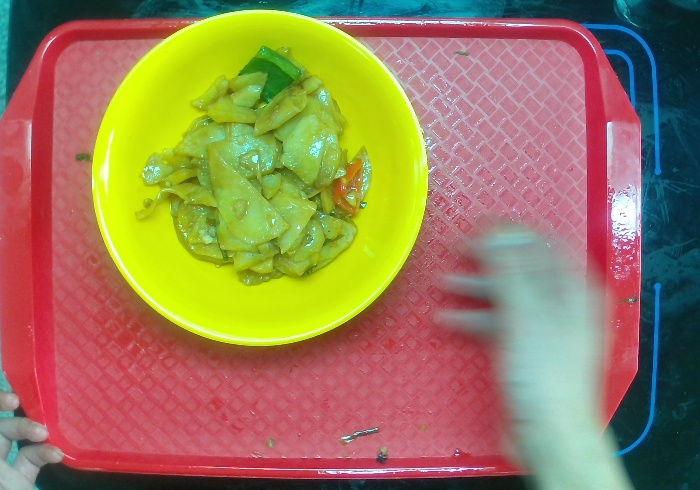YKMZ-Huang_Se_Tang_Wan: (82, 1, 437, 353)
